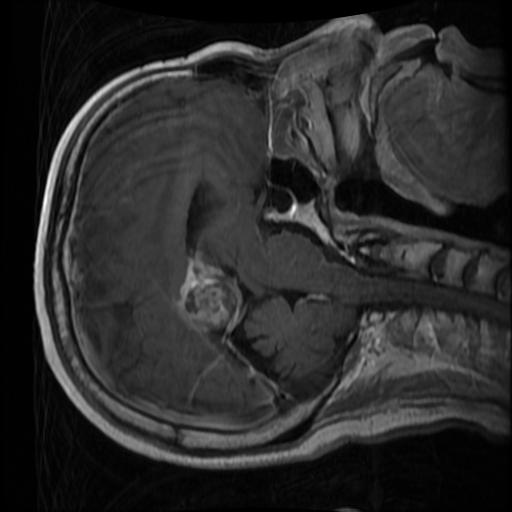glioma: (174, 251, 247, 334)
